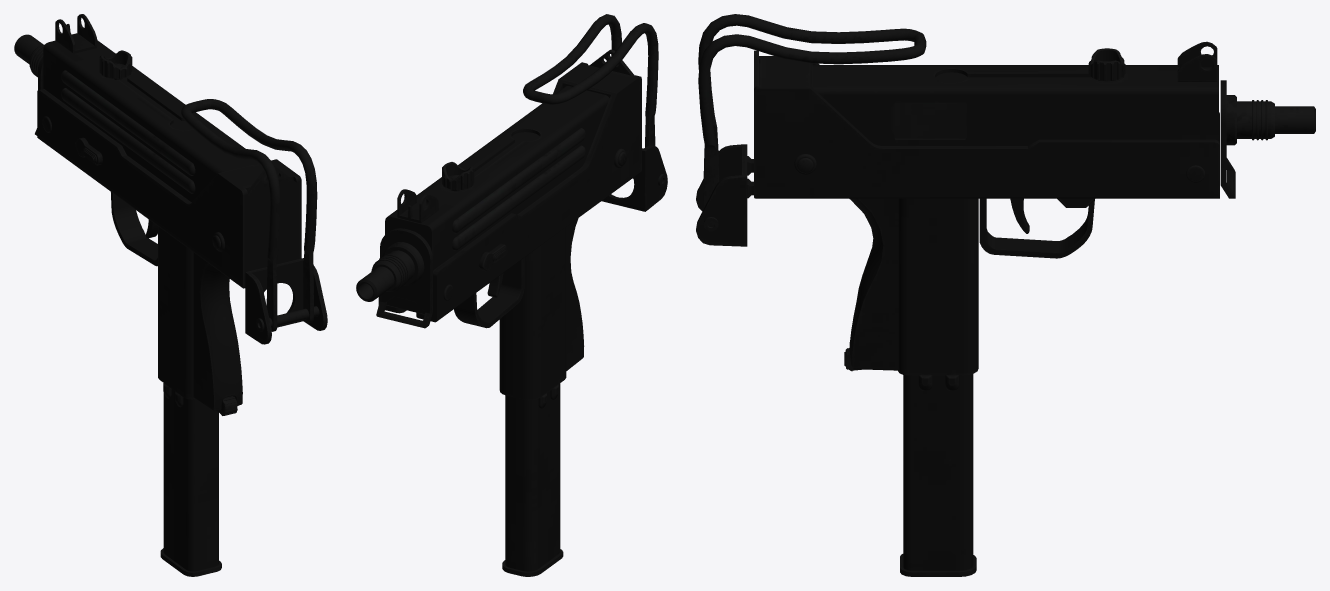
File: mac10.glb
3 renders of one model, left to right at view 1: azimuth 30°, elevation 25°; view 2: azimuth 150°, elevation 25°; view 3: azimuth 270°, elevation 25°, orthographic. The views are drawn at different scales.
Visible parts, largest first — view 1: govde; view 2: govde; view 3: govde.
Part boxes in pixels (x1,y1,x2,y2): govde: (14, 14, 327, 576); govde: (356, 14, 667, 576); govde: (696, 14, 1315, 576).
Bounding box in the file's own units: 0.0475 × 0.3086 × 0.32.
Materials: 1 (1 with a texture image).
